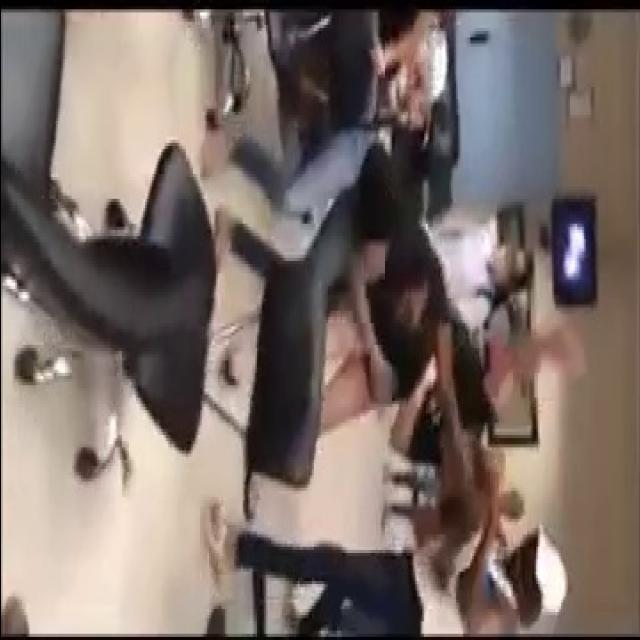Violence: (202, 129, 498, 540)
